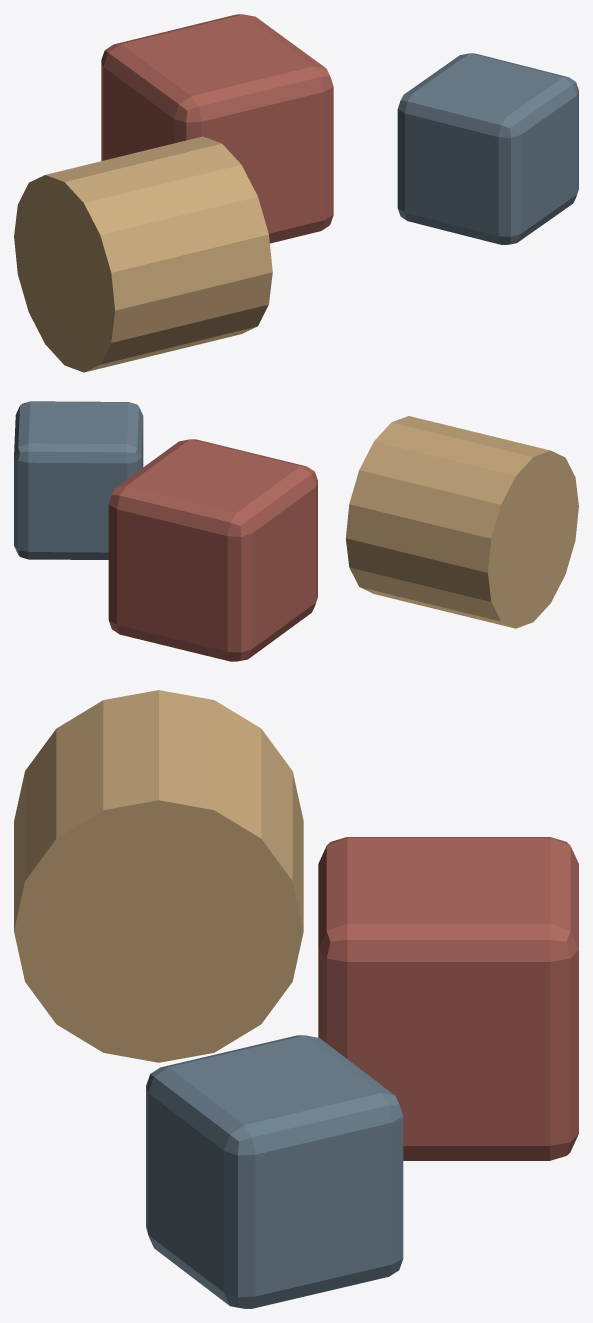
The model's file is toys.glb.
3 views of the same model, one above another, from view 1: azimuth 30°, elevation 25°; view 2: azimuth 150°, elevation 25°; view 3: azimuth 270°, elevation 25° (orthographic). The views are drawn at different scales.
Visible parts, largest first — view 1: roller, cubeA, cubeB; view 2: cubeA, roller, cubeB; view 3: roller, cubeA, cubeB.
Part boxes in pixels (left/top/right/bottom): roller: left=14, top=136, right=272, bottom=372; cubeA: left=101, top=14, right=333, bottom=243; cubeB: left=397, top=53, right=578, bottom=244; cubeA: left=108, top=439, right=317, bottom=661; roller: left=345, top=416, right=578, bottom=628; cubeB: left=14, top=401, right=143, bottom=559; roller: left=14, top=690, right=303, bottom=1062; cubeA: left=318, top=837, right=578, bottom=1160; cubeB: left=146, top=1035, right=403, bottom=1308.
Size of the model in its own units: 0.3094 by 0.1 by 0.195.
